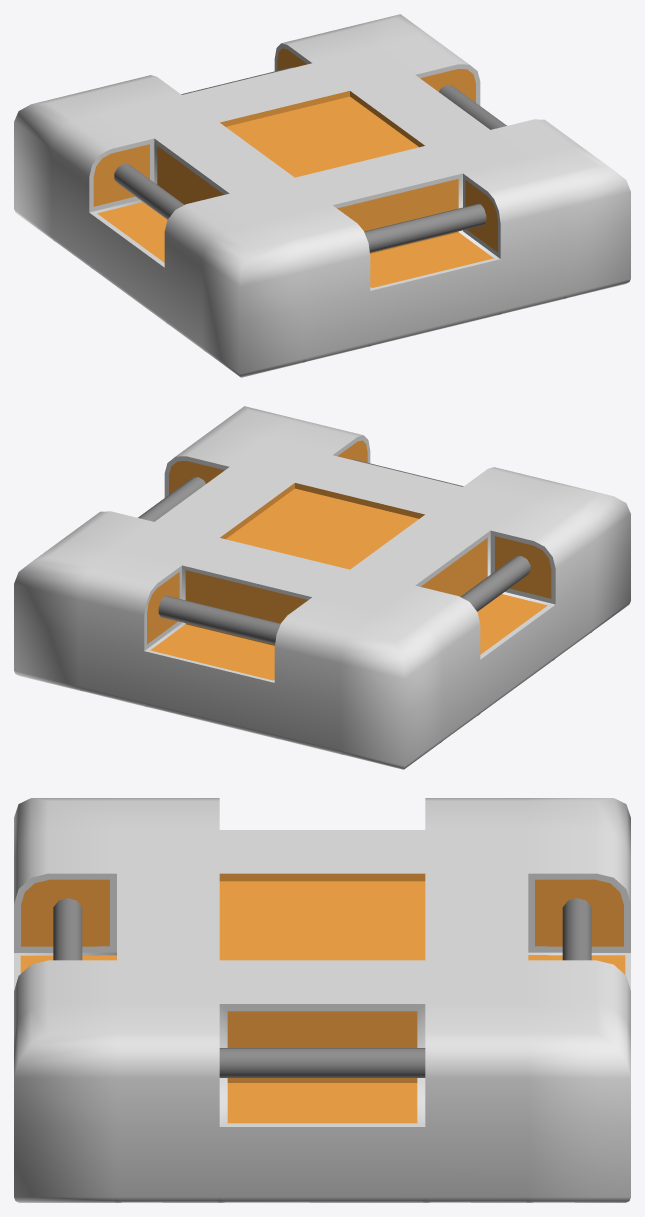
The model's file is Crate_Top.fbx.
3 views of the same model, one above another, from view 1: azimuth 30°, elevation 25°; view 2: azimuth 150°, elevation 25°; view 3: azimuth 270°, elevation 25° (orthographic). The views are drawn at different scales.
Parts seen in each view (by area): view 1: Crate_Top; view 2: Crate_Top; view 3: Crate_Top.
Part boxes in pixels (bbox=[...]): Crate_Top: bbox=[14, 14, 630, 377]; Crate_Top: bbox=[14, 406, 630, 769]; Crate_Top: bbox=[14, 798, 630, 1202].
Size of the model in its own units: 0.9385 by 0.2649 by 0.9385.
